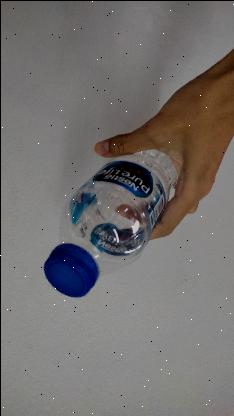Plastic Bottle: (28, 150, 176, 301)
